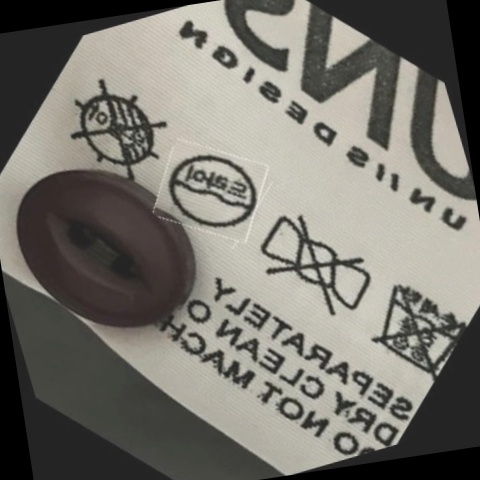DN_dry: (60, 71, 177, 189)
DN_wring: (250, 202, 382, 333)
dry_clean: (159, 138, 264, 246)
hand_wash: (358, 265, 470, 385)
